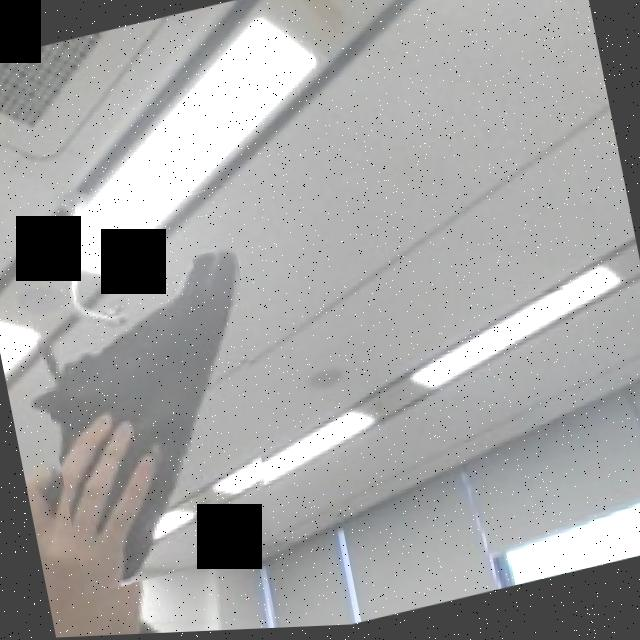shoe: (26, 239, 294, 598)
